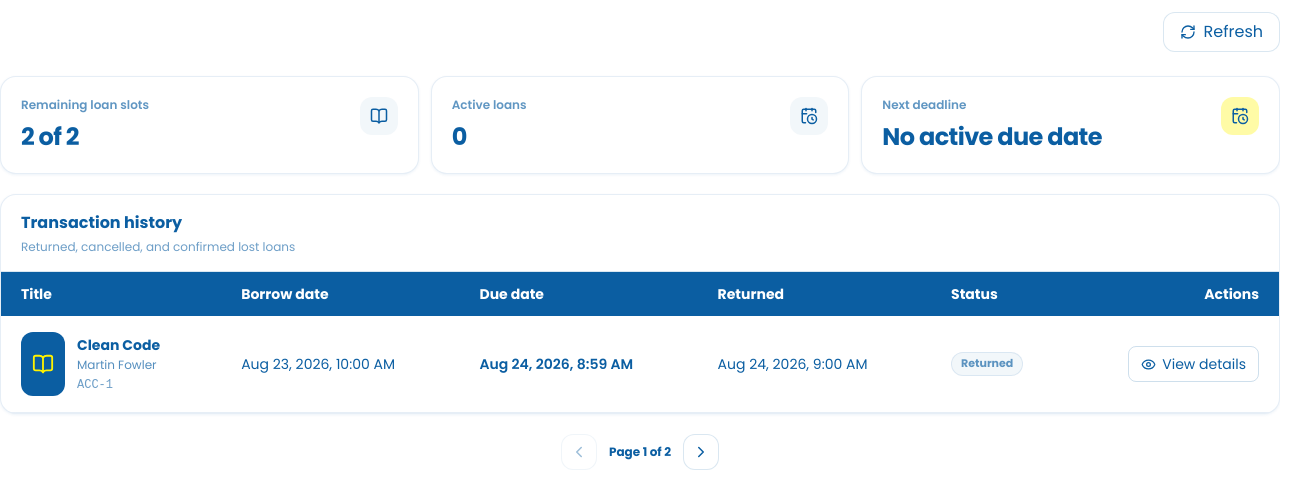
it: BorrowingHistory › loads the next page of history without swapping the list for a loading message
expect the text "Clean Code" is shown: met, box [77,335,160,355]
expect the column heading "Returned" is shown: met, box [698,272,931,316]
Click the button named "Next page": (701, 452) [683,434,719,470]
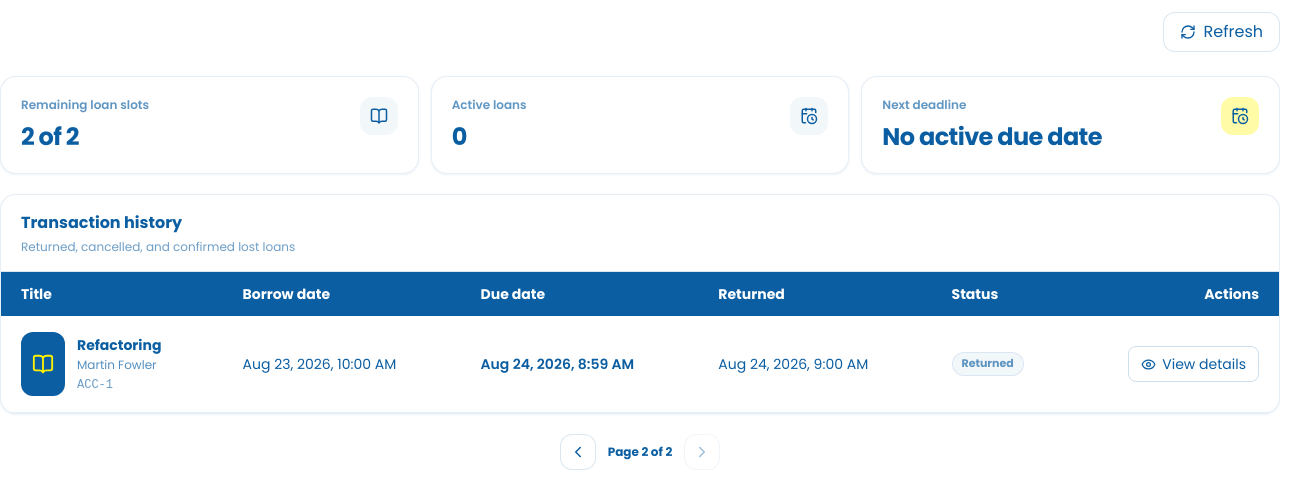
expect the text "Refactoring" is shown: met, box [77,335,161,355]
